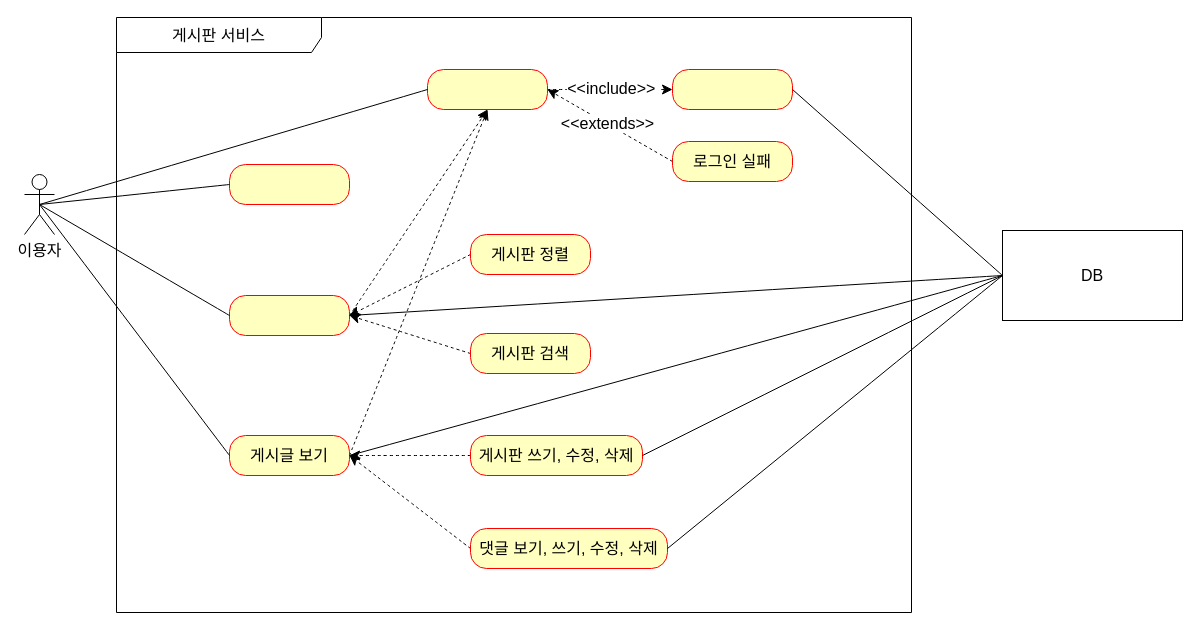
This 1200x630 diagram has some shape labels left out. Each missing label, with the centre of its shape:
게시판 보기: the point at 289,315
인증: the point at 732,89
회원 로그인: the point at 487,89
회원가입: the point at 289,184
